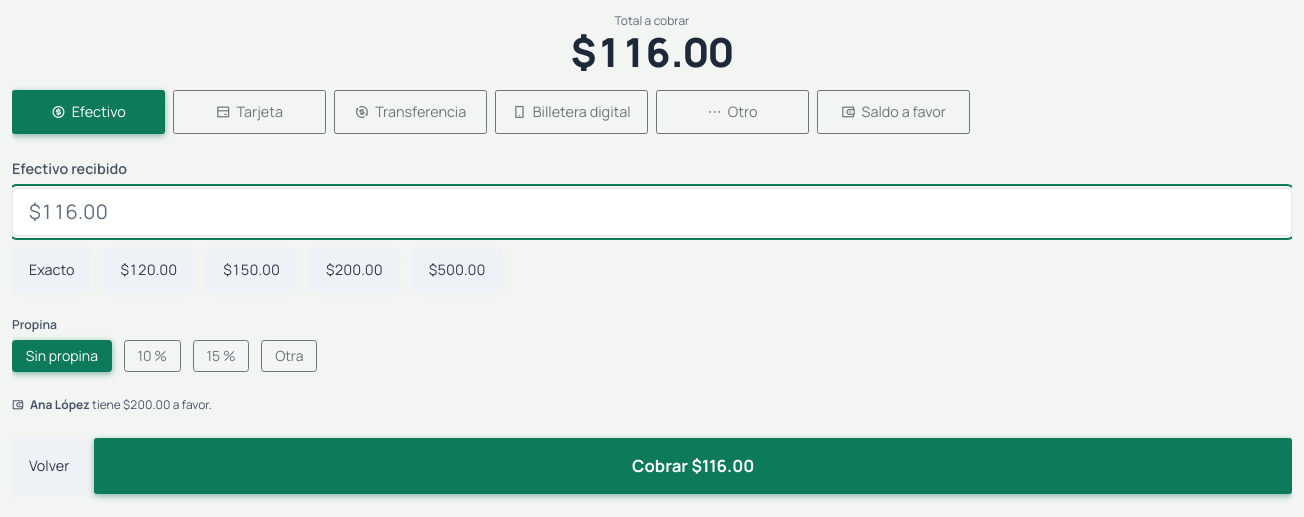
Scenario: ChargePanel with the balance in the customer's favor (Fase 26D) › refuses more than she has, and a tip paid with it
Click the radio button labelled "Saldo a favor": (894, 112) x1=817 y1=90 x2=970 y2=134
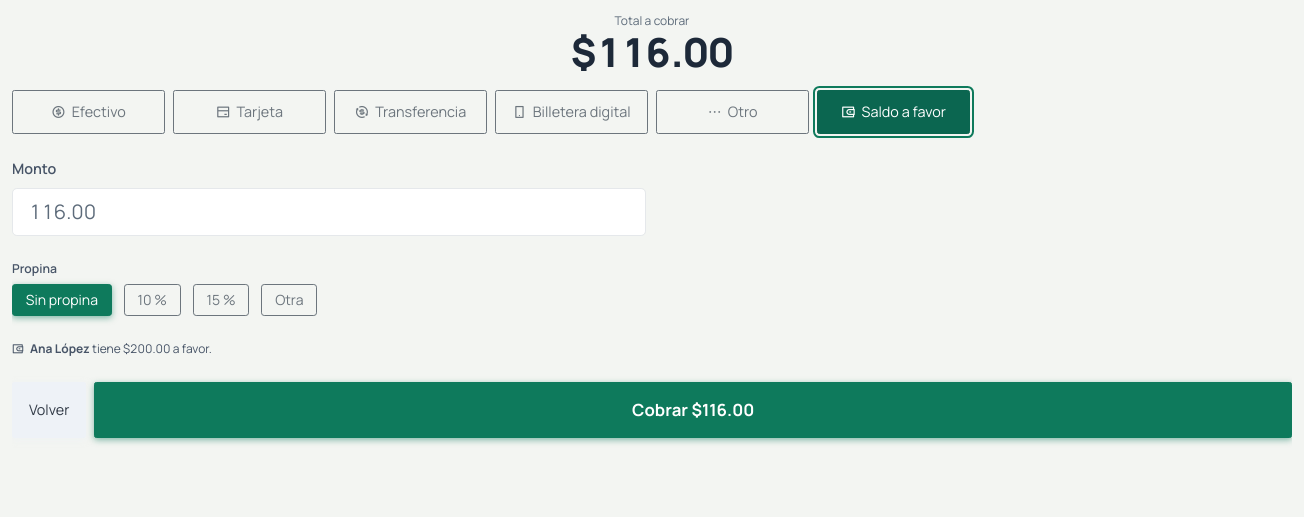
In the field labelled "Monto": (329, 212) x1=12 y1=188 x2=646 y2=236, type "120"
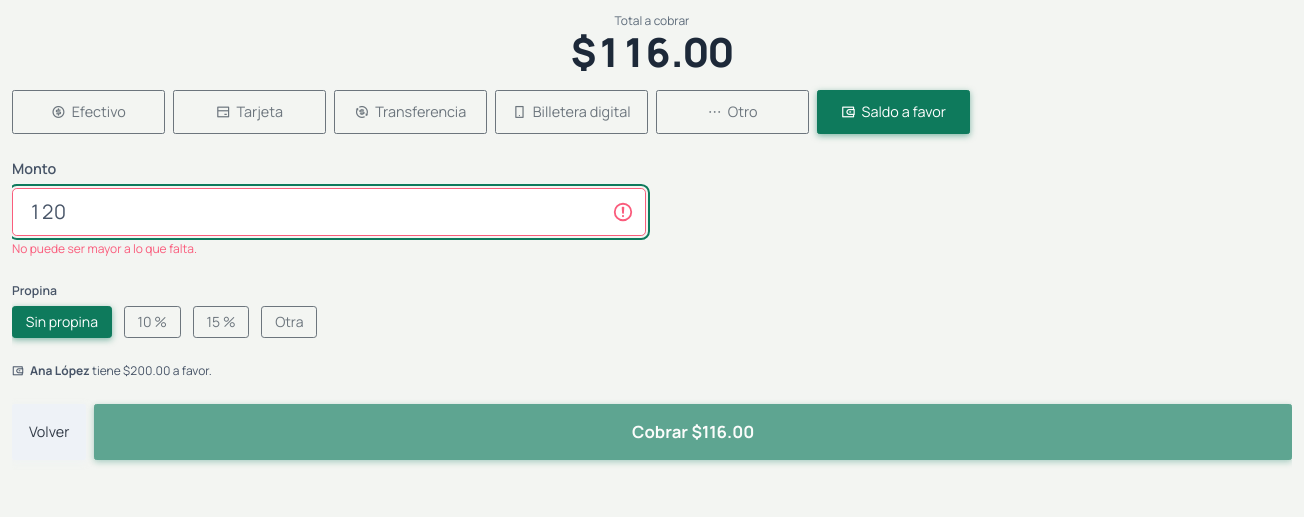
Check: the text "No puede ser mayor a lo que falta." is shown, box x1=12 y1=240 x2=197 y2=257
Clear the field labelled "Monto": (329, 212) x1=12 y1=188 x2=646 y2=236
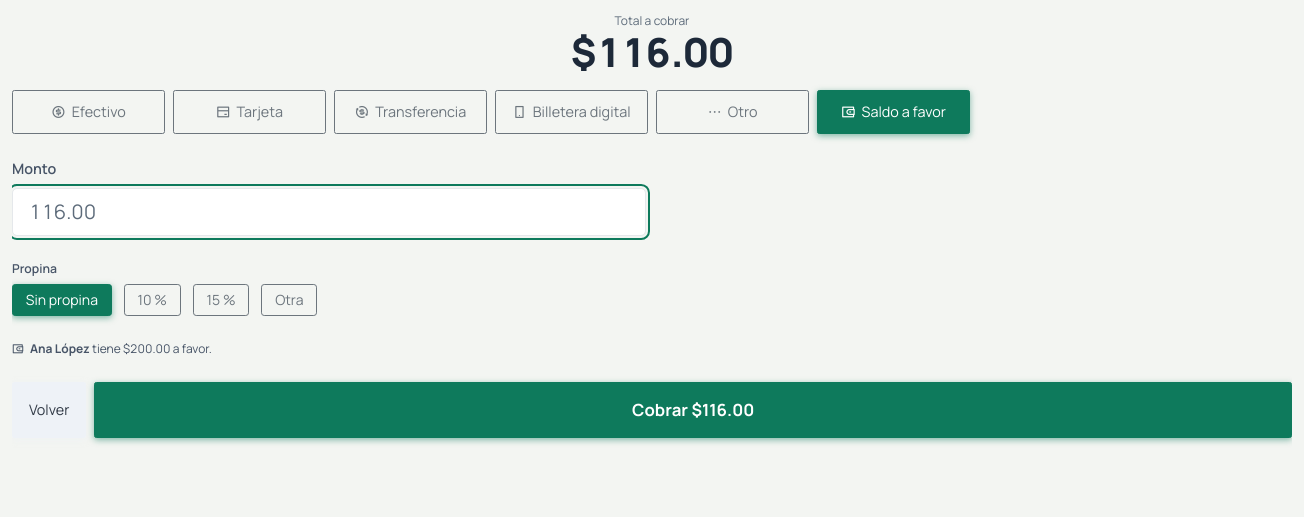
Click the radio button labelled "10 %": (152, 300) x1=124 y1=284 x2=181 y2=316
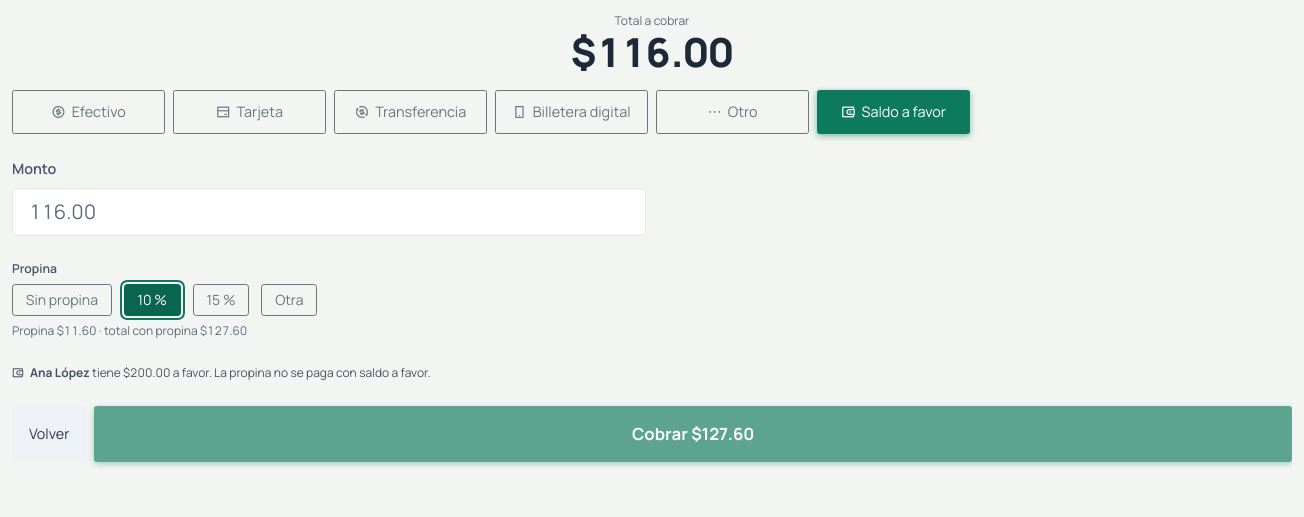
Check: the text "La propina no se paga con saldo a favor." is shown, box x1=212 y1=364 x2=430 y2=381
Check: the button "Cobrar $127.60" is disabled, box x1=94 y1=406 x2=1292 y2=462
